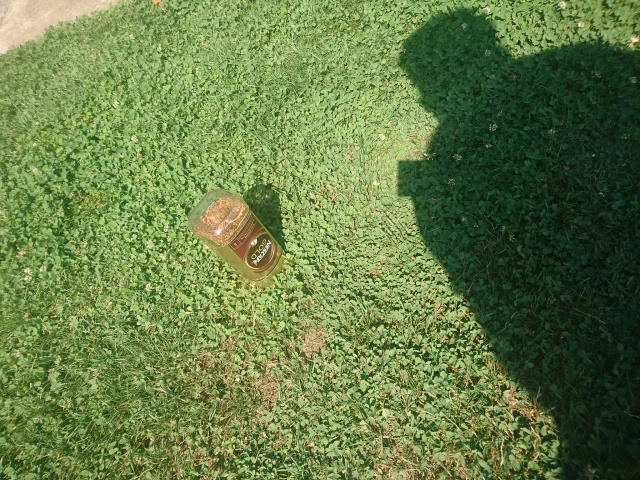Nescafe Gold 225g: (184, 186, 289, 291)
